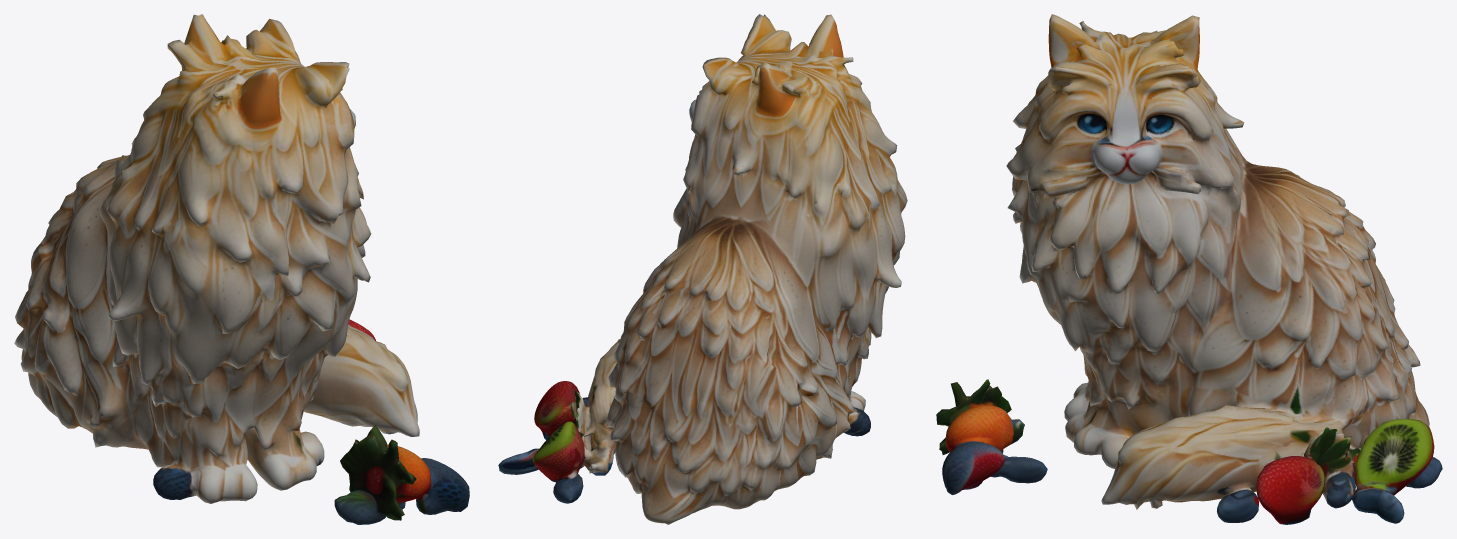
File: tripo_convert_f873edb2-a9cb-4f94-a9f3-e91fd1746a1d.glb
The picture shows the model from 3 angles, left to right: view 1: azimuth 30°, elevation 25°; view 2: azimuth 150°, elevation 25°; view 3: azimuth 270°, elevation 25°; orthographic projection. The views are drawn at different scales.
Parts seen in each view (by area): view 1: tripo_node_f873edb2-a9cb-4f94-a9f3-e91fd1746a1d; view 2: tripo_node_f873edb2-a9cb-4f94-a9f3-e91fd1746a1d; view 3: tripo_node_f873edb2-a9cb-4f94-a9f3-e91fd1746a1d.
Boxes of the visible parts, x1,y1,x2,y2 form: tripo_node_f873edb2-a9cb-4f94-a9f3-e91fd1746a1d: (14,14,469,524); tripo_node_f873edb2-a9cb-4f94-a9f3-e91fd1746a1d: (498,14,907,524); tripo_node_f873edb2-a9cb-4f94-a9f3-e91fd1746a1d: (936,14,1442,524).
Bounding box in the file's own units: 0.6819 × 0.8506 × 0.9281.
1 material, 1 textured.
